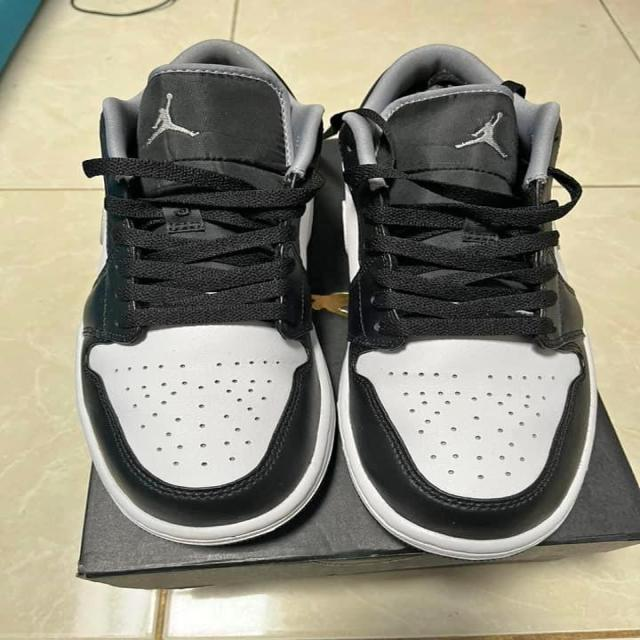nike original jordan 1: (330, 43, 596, 564), (70, 45, 336, 545)
